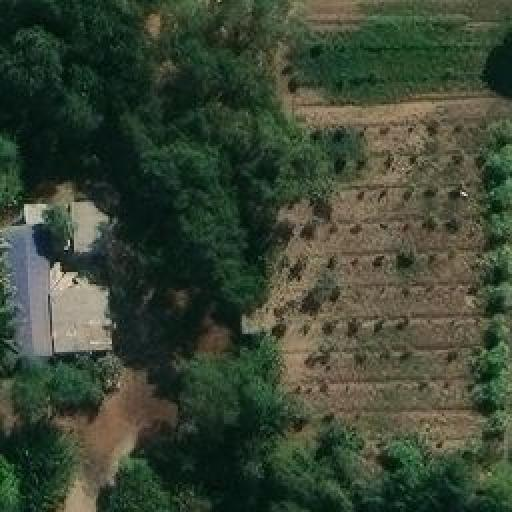manzanas: (3, 193, 119, 365)
